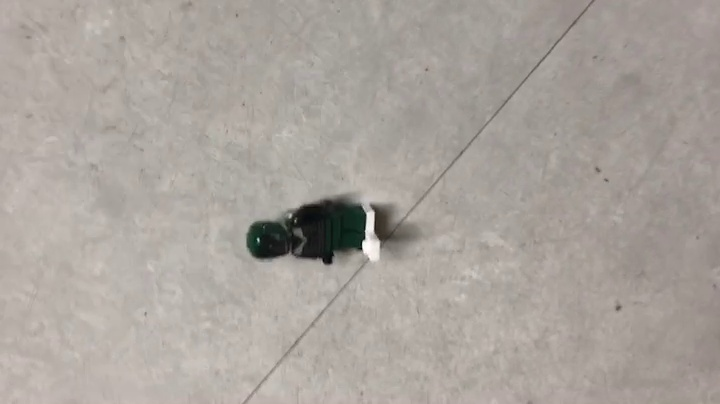people: (246, 199, 384, 267)
